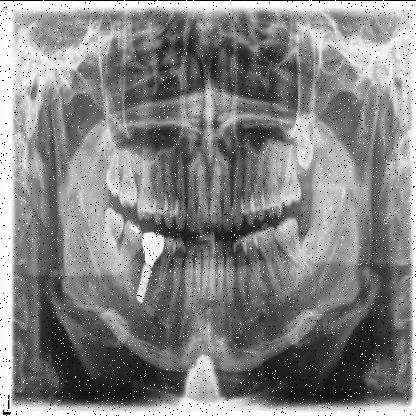ITI: (130, 264, 156, 314)
